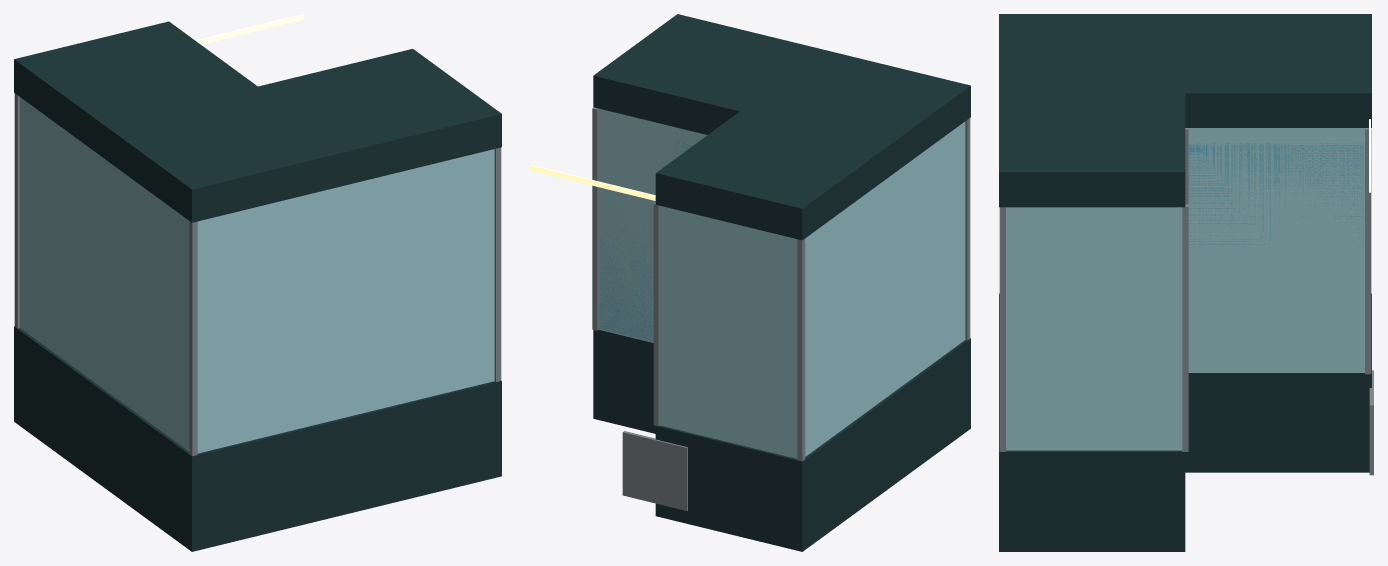
File: tank_corner.fbx
3 renders of one model, left to right at view 1: azimuth 30°, elevation 25°; view 2: azimuth 150°, elevation 25°; view 3: azimuth 270°, elevation 25°, orthographic. The views are drawn at different scales.
Parts seen in each view (by area): view 1: tank_corner; view 2: tank_corner; view 3: tank_corner.
Boxes of the visible parts, x1,y1,x2,y2 form: tank_corner: (14, 14, 501, 551); tank_corner: (530, 14, 970, 551); tank_corner: (999, 14, 1373, 551).
Bounding box in the file's own units: 3.4 × 3.8 × 3.4.
